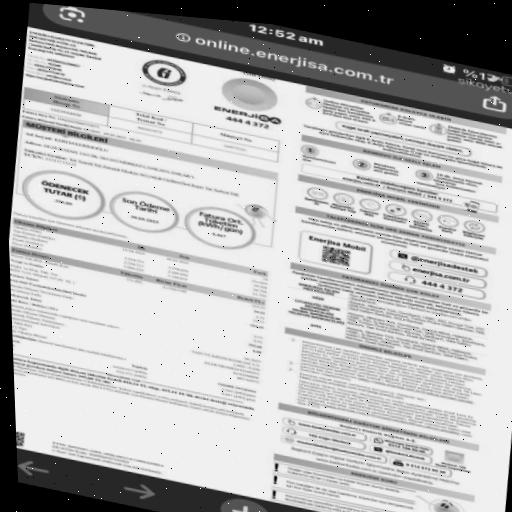electricity-bill: (9, 31, 506, 512)
